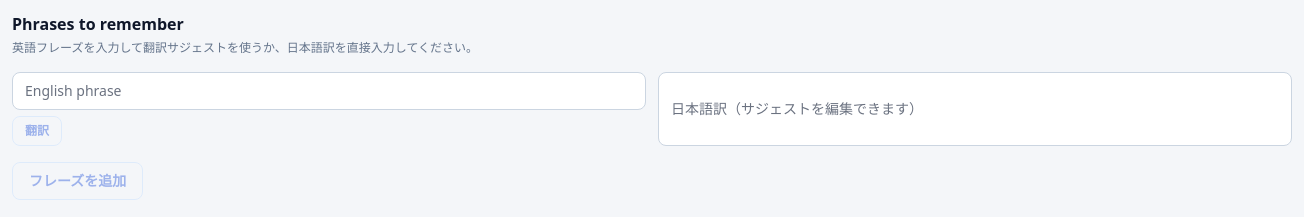
Test: PhraseEditor › applies a translate response when the English input is unchanged when it arrives
The width and height of the screenshot is (1304, 217).
Type "edge case" into the field named "追加する英語フレーズ" at [329, 91], box [12,72,646,110]
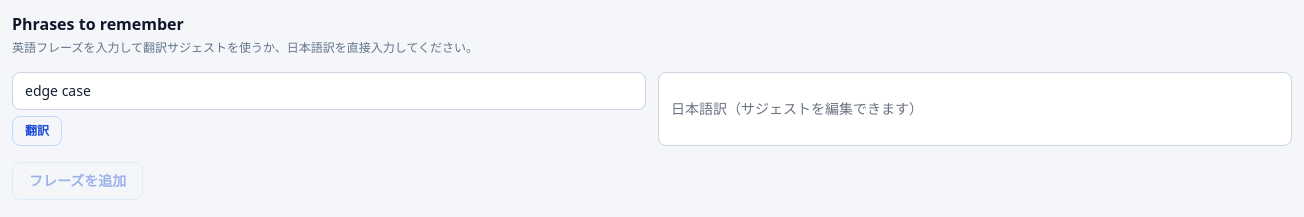
Click the button "翻訳" at [37, 131], box [12,116,62,146]
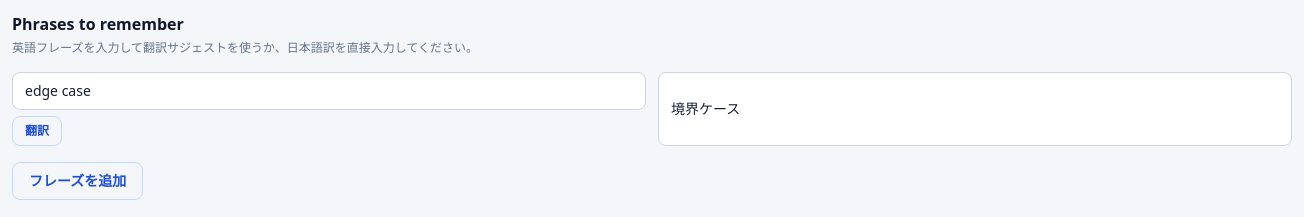
Result: the field showing "境界ケース" is shown at [658,72,1292,146]
